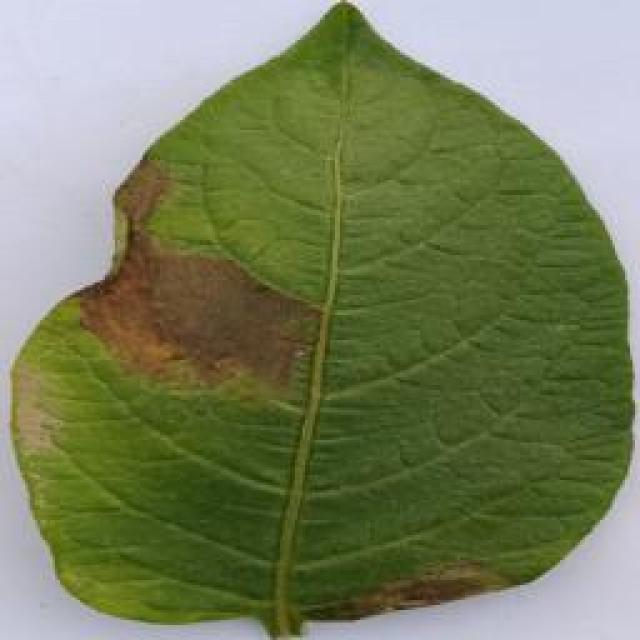Potato_Late_Blight: (9, 2, 624, 632)
